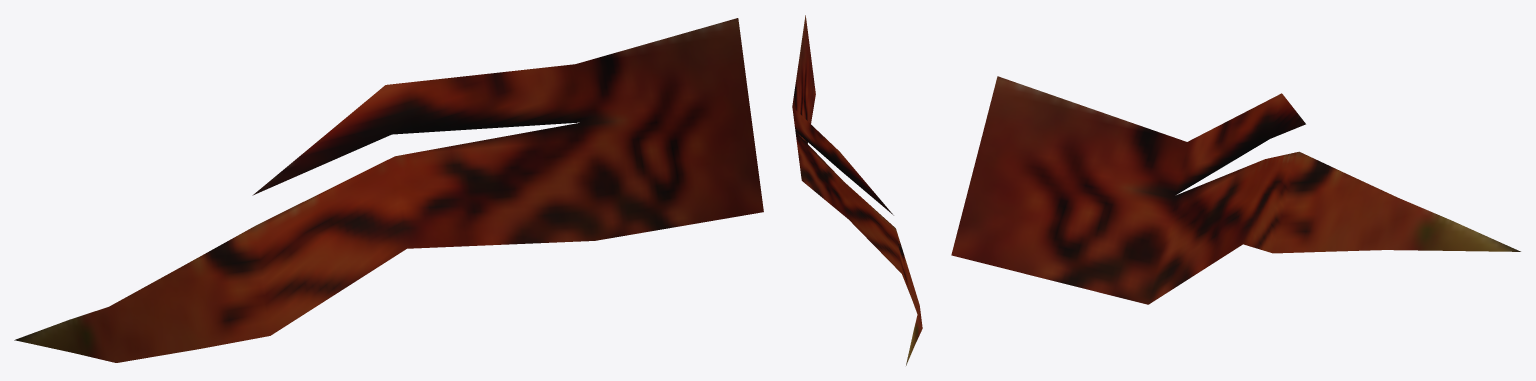
The model's file is Bf_dj01_flag_single_01.fbx.
The picture shows the model from 3 angles, left to right: view 1: azimuth 30°, elevation 25°; view 2: azimuth 150°, elevation 25°; view 3: azimuth 270°, elevation 25°; orthographic projection. The views are drawn at different scales.
Parts seen in each view (by area): view 1: Bf_dj01_flag_single_01; view 2: Bf_dj01_flag_single_01; view 3: Bf_dj01_flag_single_01.
Boxes of the visible parts, x1,y1,x2,y2 form: Bf_dj01_flag_single_01: (14,18,763,362); Bf_dj01_flag_single_01: (792,15,922,365); Bf_dj01_flag_single_01: (951,76,1520,304).
Bounding box in the file's own units: 3.17 × 2.62 × 3.37.
